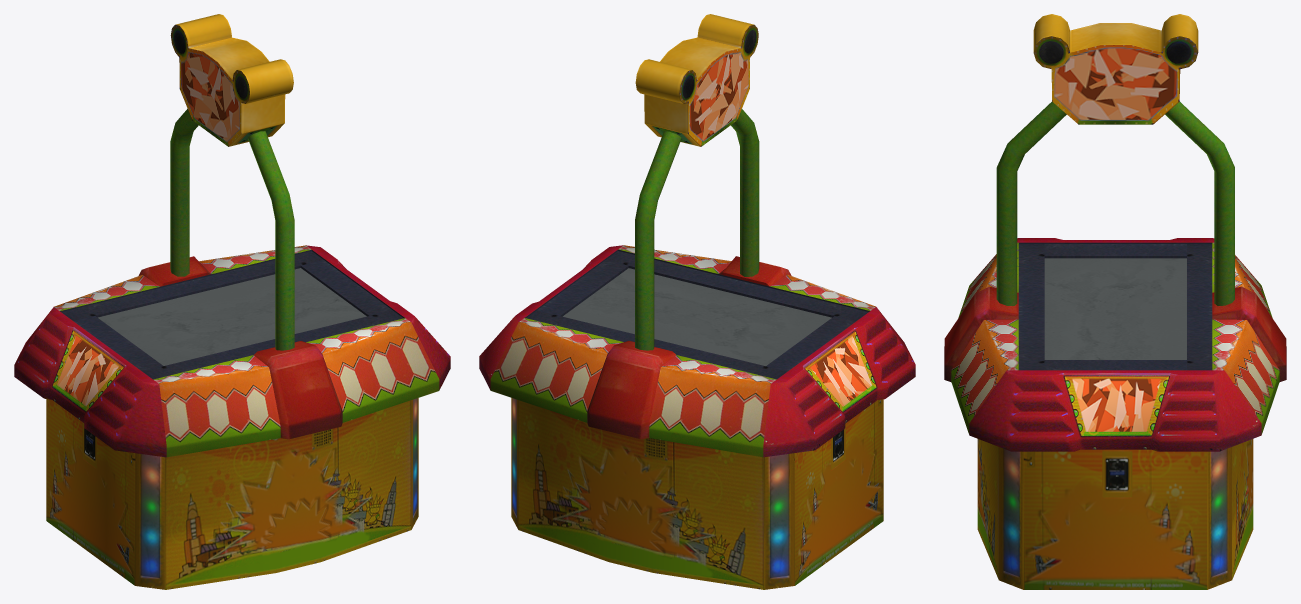
The model's file is arcade-8.FBX.
3 renders of one model, left to right at view 1: azimuth 30°, elevation 25°; view 2: azimuth 150°, elevation 25°; view 3: azimuth 270°, elevation 25°, orthographic. The views are drawn at different scales.
Visible parts, largest first — view 1: game_machine-8_LOD0; view 2: game_machine-8_LOD0; view 3: game_machine-8_LOD0.
Part boxes in pixels (x1,y1,x2,y2): game_machine-8_LOD0: [14, 14, 450, 589]; game_machine-8_LOD0: [479, 14, 915, 589]; game_machine-8_LOD0: [944, 14, 1286, 589].
Size of what is drawn, in the model's own units: 57.6 by 77.93 by 49.02.
